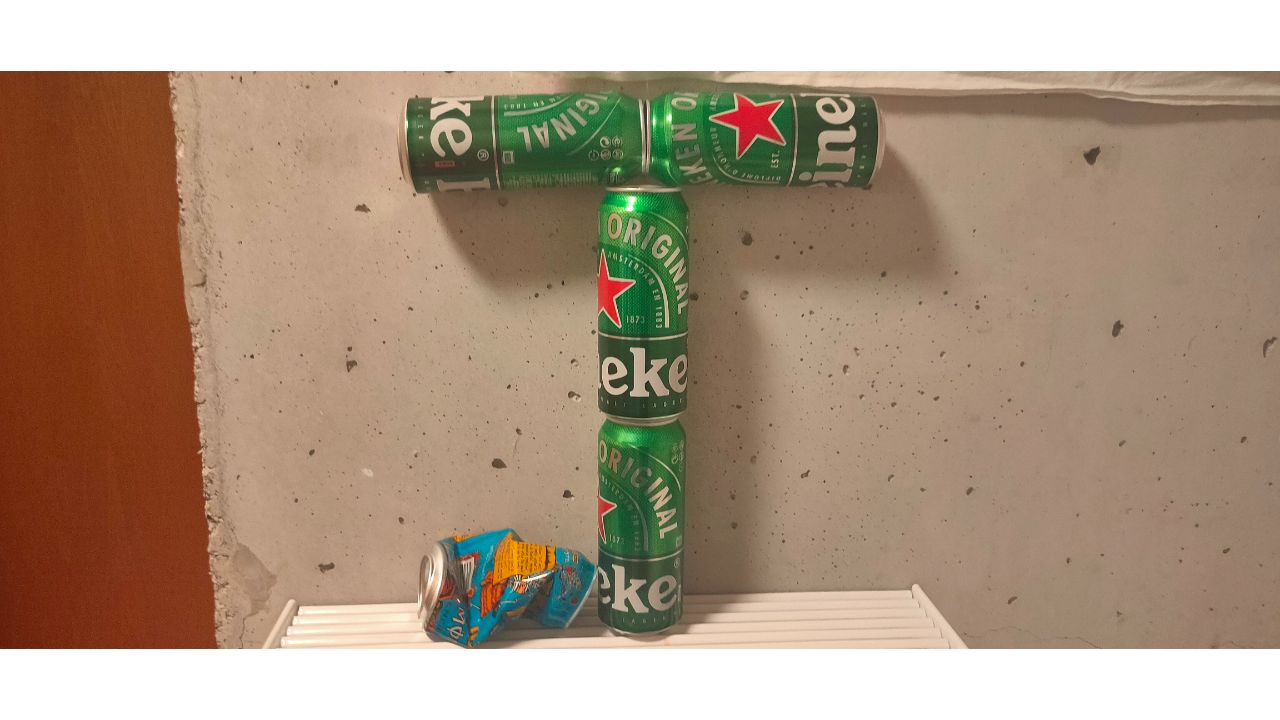Can: (394, 94, 647, 192), (647, 87, 886, 189), (597, 184, 692, 421), (416, 524, 595, 649), (597, 420, 684, 634)
